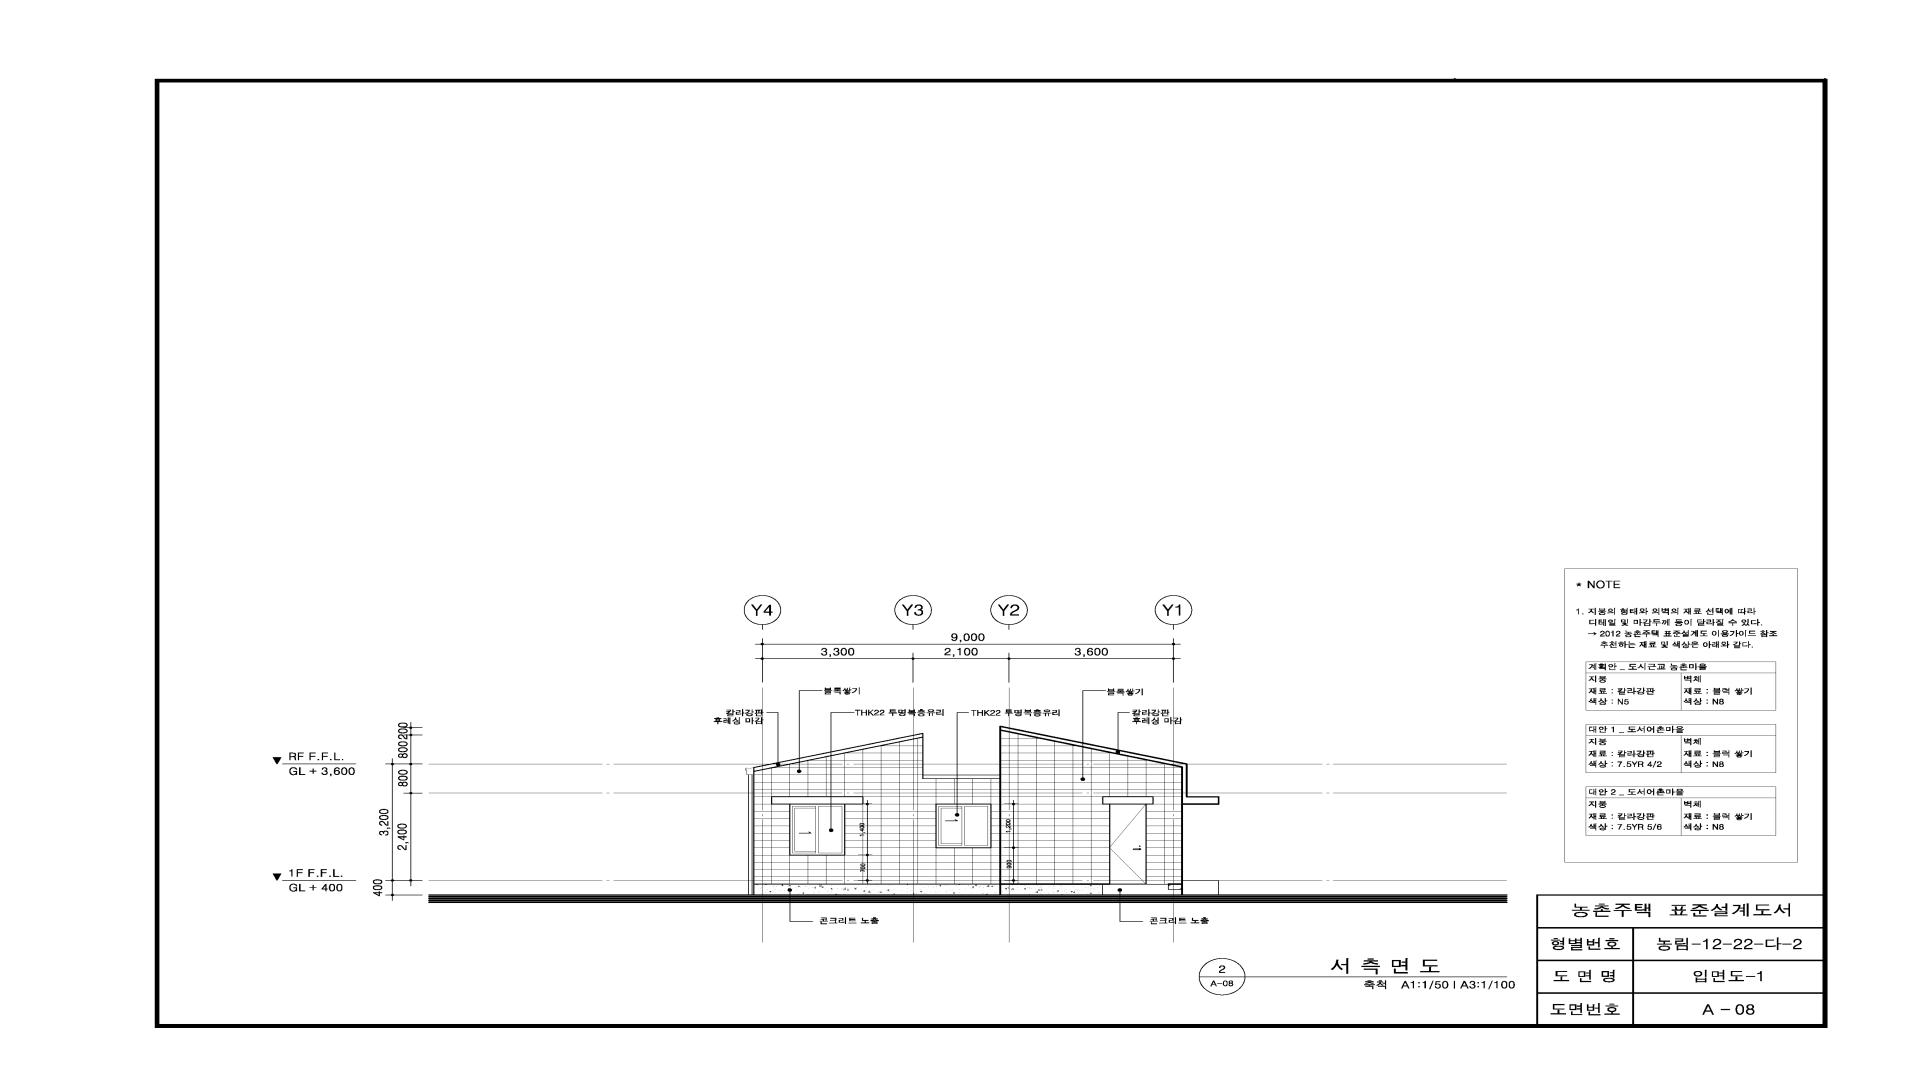door: (1109, 804, 1147, 885)
wall: (753, 725, 1220, 894), (753, 884, 1102, 894)
window: (789, 804, 845, 856), (935, 803, 992, 848)
